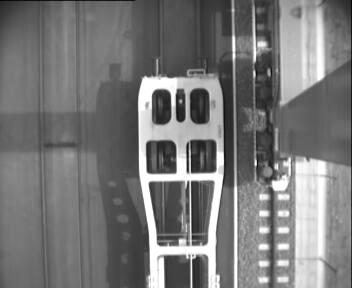wagon_scan: (149, 86, 215, 127)
